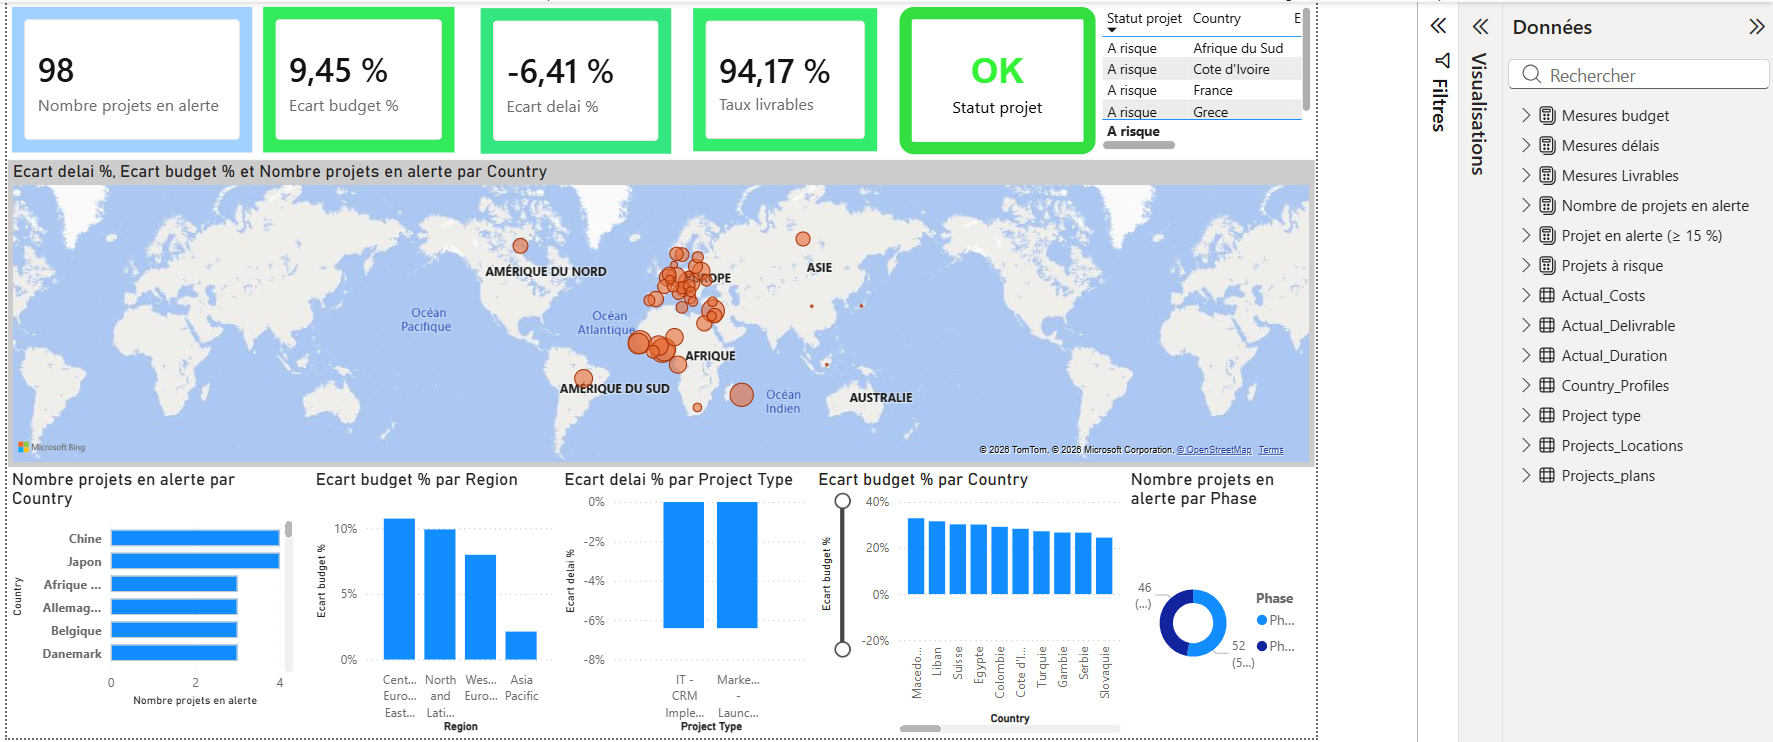

This screenshot's page, from the dashboard's own definition file:
{"tool":"powerbi","page":{"name":"Vue globale – Pilotage des projets","canvas":[1280,720],"ordinal":0},"visuals":[{"type":"cardVisual","fields":{"Data":["Nombre de projets en alerte.Nombre projets en alerte"]},"box":[0,0,245.6,152.3],"z":0},{"type":"cardVisual","fields":{"Data":["Mesures budget.Ecart budget %"]},"box":[245.6,0,197.6,152.3],"z":1000},{"type":"cardVisual","fields":{"Data":["Mesures délais.Ecart delai %"]},"box":[458.3,1.4,196.2,152.3],"z":2000},{"type":"cardVisual","fields":{"Data":["Mesures Livrables.Taux livrables"]},"box":[666.9,1.4,190.7,150.9],"z":3000},{"type":"columnChart","fields":{"Y":["Mesures budget.Ecart budget %"],"Category":["Projects_plans.Country"]},"box":[788.7,456.1,305.7,264.1],"z":4000},{"type":"barChart","fields":{"Y":["Nombre de projets en alerte.Nombre projets en alerte"],"Category":["Projects_plans.Country"]},"box":[0,456.1,284.9,238.5],"z":5000},{"type":"columnChart","fields":{"Y":["Mesures budget.Ecart budget %"],"Category":["Country_Profiles.Region"]},"box":[297.1,456.1,243.3,264.1],"z":6000},{"type":"map","fields":{"Size":["Mesures délais.Ecart delai %"],"Category":["Projects_plans.Country"]},"box":[0,153.7,1280.3,301.9],"z":7000},{"type":"card","fields":{"Values":["Projets à risque.Statut projet"]},"box":[872.7,5.5,192.1,144.1],"z":8000},{"type":"donutChart","fields":{"Category":["Projects_plans.Phase"],"Y":["Nombre de projets en alerte.Nombre projets en alerte"]},"box":[1095,455.6,185.2,264.8],"z":9000},{"type":"tableEx","fields":{"Values":["Projets à risque.Statut projet","Projects_plans.Country","Mesures budget.Ecart budget %","Mesures délais.Ecart delai %","Mesures Livrables.Taux livrables","Projects_plans.Project ID"]},"box":[1064.8,0,215.4,149.6],"z":10000},{"type":"columnChart","fields":{"Category":["Project type.Project Type"],"Y":["Mesures délais.Ecart delai %"]},"box":[540.5,456.1,248.2,264.1],"z":11000}]}

Visuals, with their boxes on the page's 1280x720 design canvas (x1, y1, x2, y2). These are canvas units, not pixel positions in the 1773x742 screenshot, which may show the page scaled, cropped or inside an application window:
cardVisual - Nombre de projets en alerte.Nombre projets en alerte: (x1=0, y1=0, x2=246, y2=152)
cardVisual - Mesures budget.Ecart budget %: (x1=246, y1=0, x2=443, y2=152)
cardVisual - Mesures délais.Ecart delai %: (x1=458, y1=1, x2=654, y2=154)
cardVisual - Mesures Livrables.Taux livrables: (x1=667, y1=1, x2=858, y2=152)
columnChart - Mesures budget.Ecart budget % x Projects_plans.Country: (x1=789, y1=456, x2=1094, y2=720)
barChart - Nombre de projets en alerte.Nombre projets en alerte x Projects_plans.Country: (x1=0, y1=456, x2=285, y2=695)
columnChart - Mesures budget.Ecart budget % x Country_Profiles.Region: (x1=297, y1=456, x2=540, y2=720)
map - Mesures délais.Ecart delai % x Projects_plans.Country: (x1=0, y1=154, x2=1280, y2=456)
card - Projets à risque.Statut projet: (x1=873, y1=6, x2=1065, y2=150)
donutChart - Projects_plans.Phase x Nombre de projets en alerte.Nombre projets en alerte: (x1=1095, y1=456, x2=1280, y2=720)
tableEx - Projets à risque.Statut projet x Projects_plans.Country: (x1=1065, y1=0, x2=1280, y2=150)
columnChart - Project type.Project Type x Mesures délais.Ecart delai %: (x1=540, y1=456, x2=789, y2=720)
